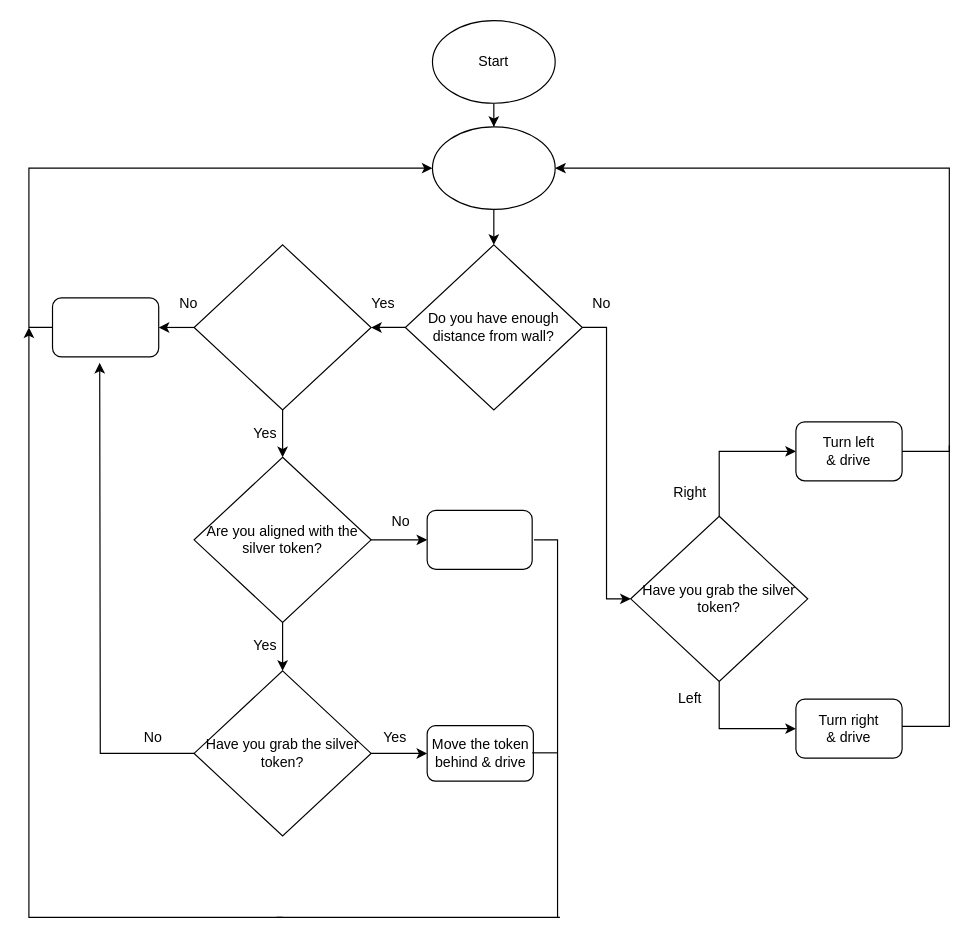
Image size: 979x948. Some labels were removed from this diagram. The shapes that lost their labels are listed below. From the top down, each one's centre as x and y in pixels, then its label:
At point (493, 167): "While True".
At point (105, 327): "Drive".
At point (282, 327): "Is there any silver token near you?".
At point (479, 539): "Align with the token & drive".
